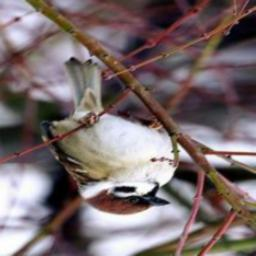Sparrow: (37, 59, 181, 216)
